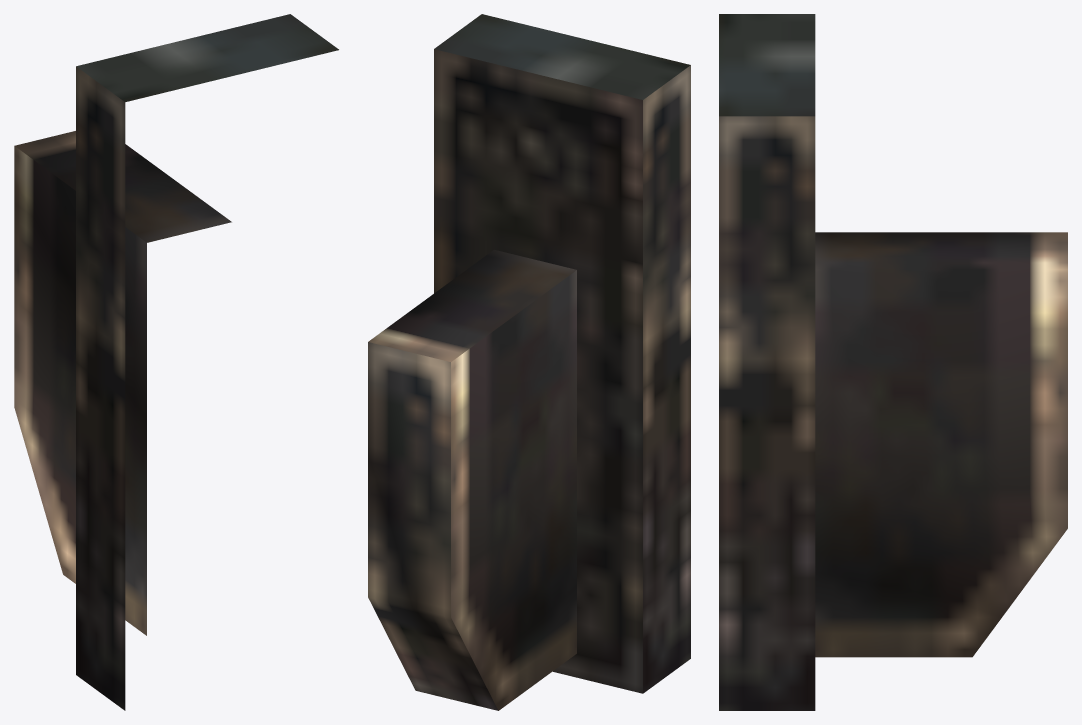
File: OZ_21_ta_huck01A.glb
The picture shows the model from 3 angles, left to right: view 1: azimuth 30°, elevation 25°; view 2: azimuth 150°, elevation 25°; view 3: azimuth 270°, elevation 25°; orthographic projection. The views are drawn at different scales.
Parts seen in each view (by area): view 1: OM_21_ta_huck01A; view 2: OM_21_ta_huck01A; view 3: OM_21_ta_huck01A.
Boxes of the visible parts, x1,y1,x2,y2 form: OM_21_ta_huck01A: [14, 14, 338, 710]; OM_21_ta_huck01A: [368, 14, 690, 710]; OM_21_ta_huck01A: [719, 14, 1067, 710].
Bounding box in the file's own units: 0.171 × 0.464 × 0.2465.
Materials: 1 (1 with a texture image).
